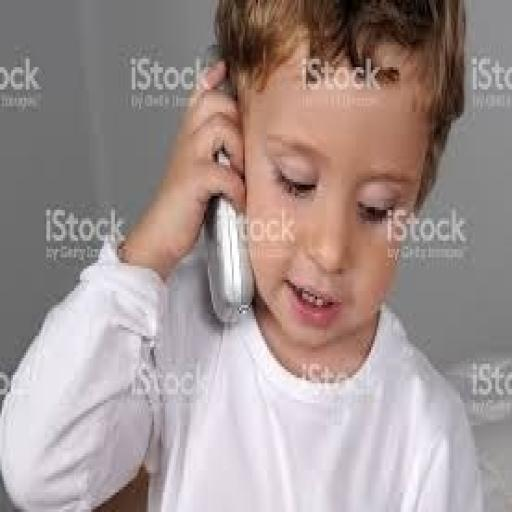calling: (0, 0, 486, 509)
